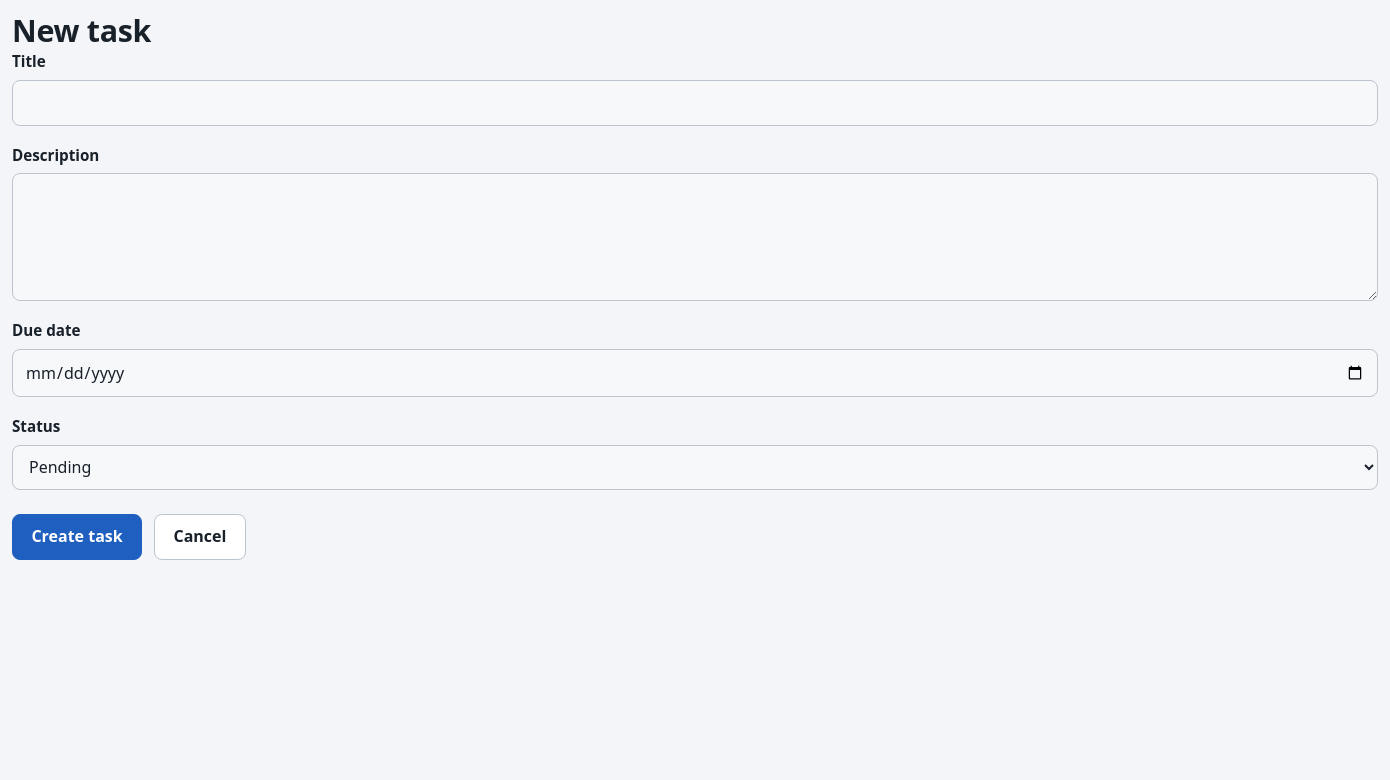
Test: TaskForm in create mode › shows a missing-date error and sends no request
This screenshot has width=1390, height=780.
Type "Write the specification" into the field labelled "Title" at coordinates (695, 103), box [12,80,1378,126]
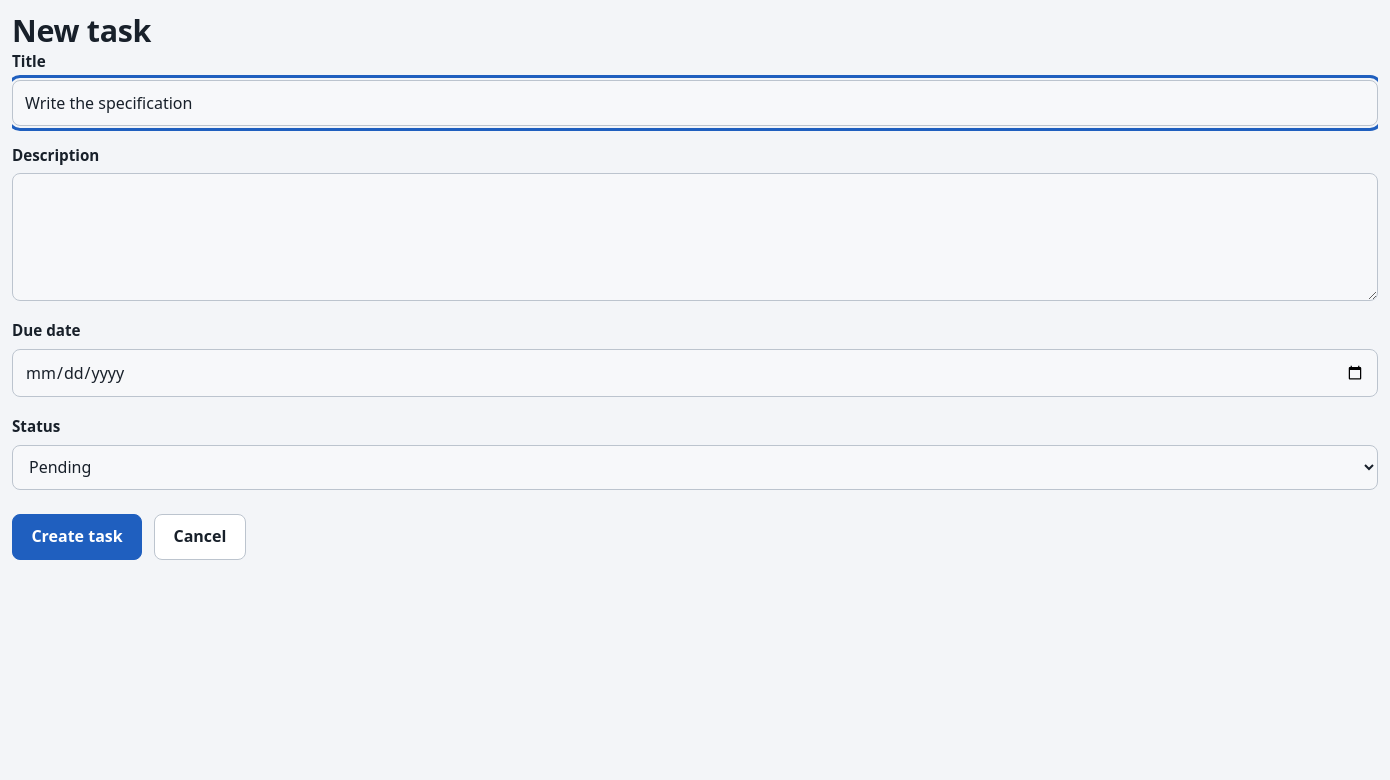
Click the button "Create task" at coordinates (77, 537), box [12,514,142,560]
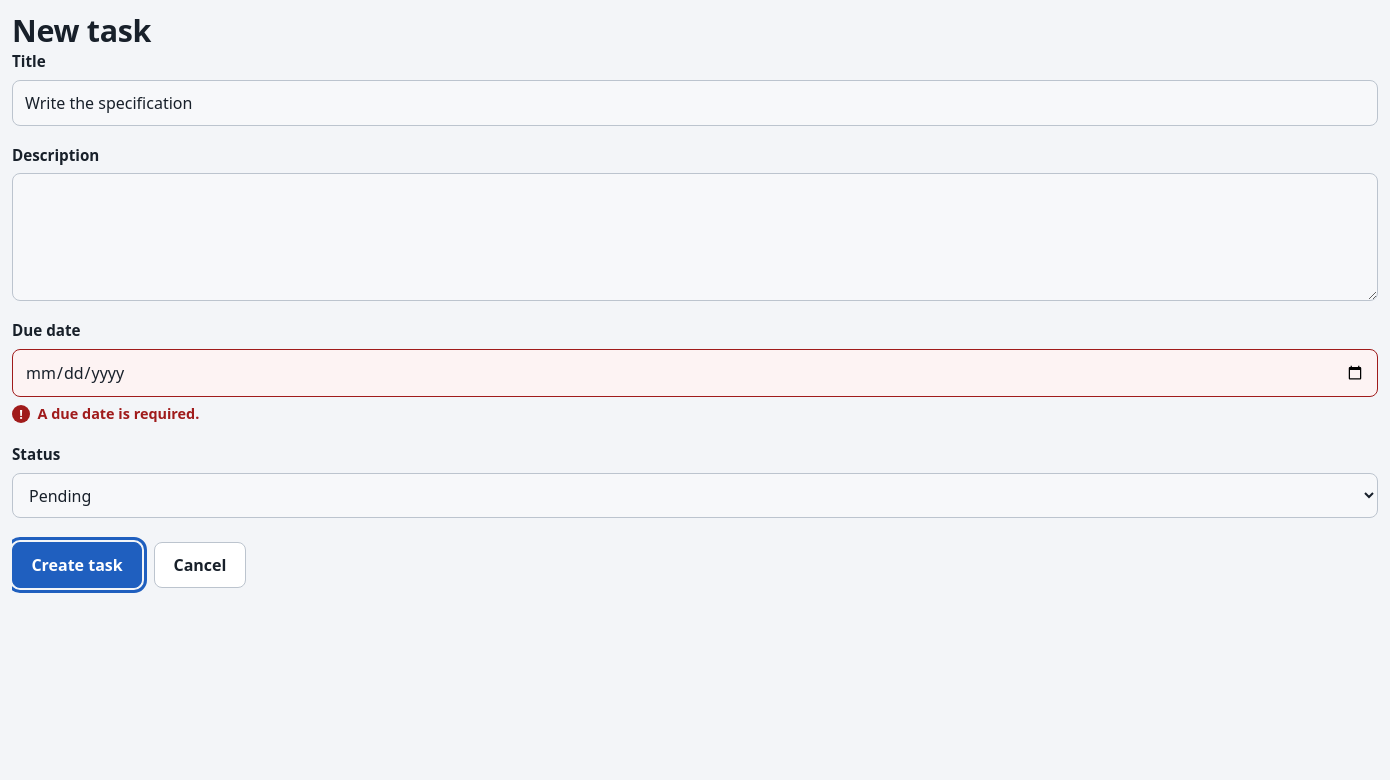
Now the text "A due date is required." is shown, box [38,404,199,423]
